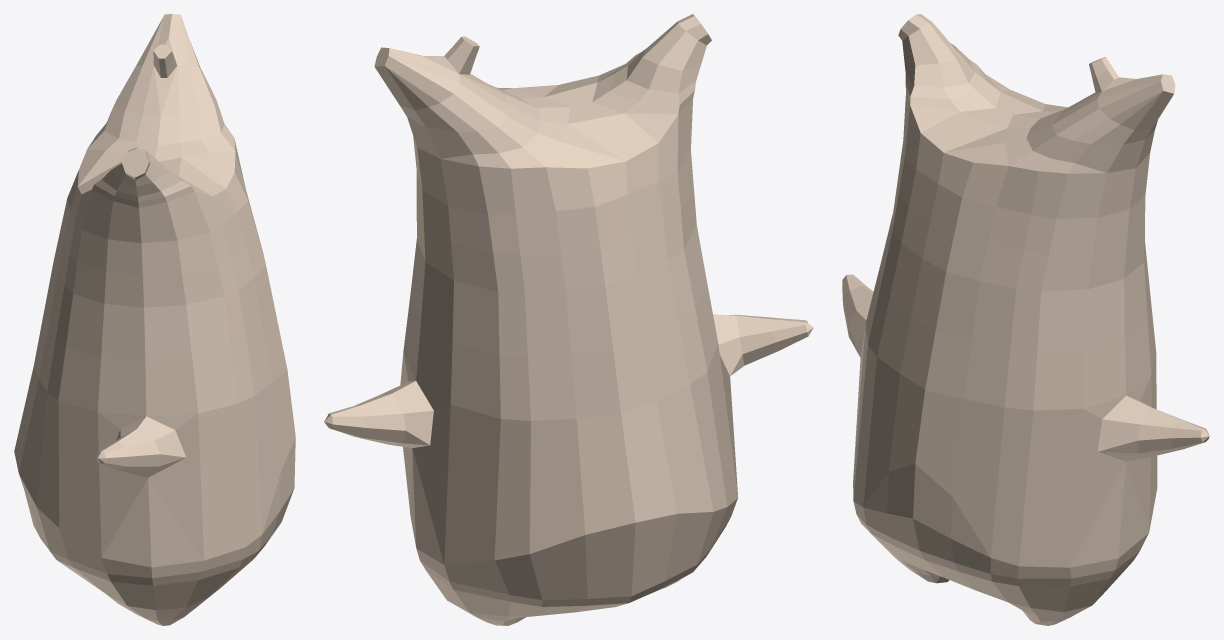
The model's file is frame_0066.obj.
3 views of the same model, side by side, from view 1: azimuth 30°, elevation 25°; view 2: azimuth 150°, elevation 25°; view 3: azimuth 270°, elevation 25° (orthographic). The views are drawn at different scales.
Parts seen in each view (by area): view 1: korok; view 2: korok; view 3: korok.
Boxes of the visible parts, x1,y1,x2,y2 form: korok: (14,14,295,625); korok: (324,14,813,625); korok: (842,14,1209,625).
Size of the model in its own units: 1.09 by 2.13 by 1.24.
